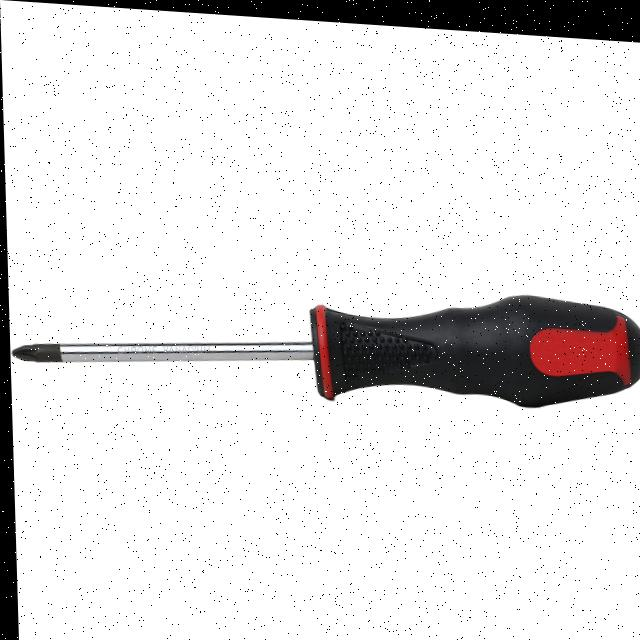Screwdriver: (11, 288, 640, 400)
